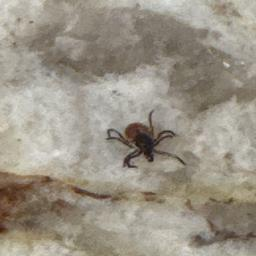Ixodes scapularis: (106, 110, 186, 169)
